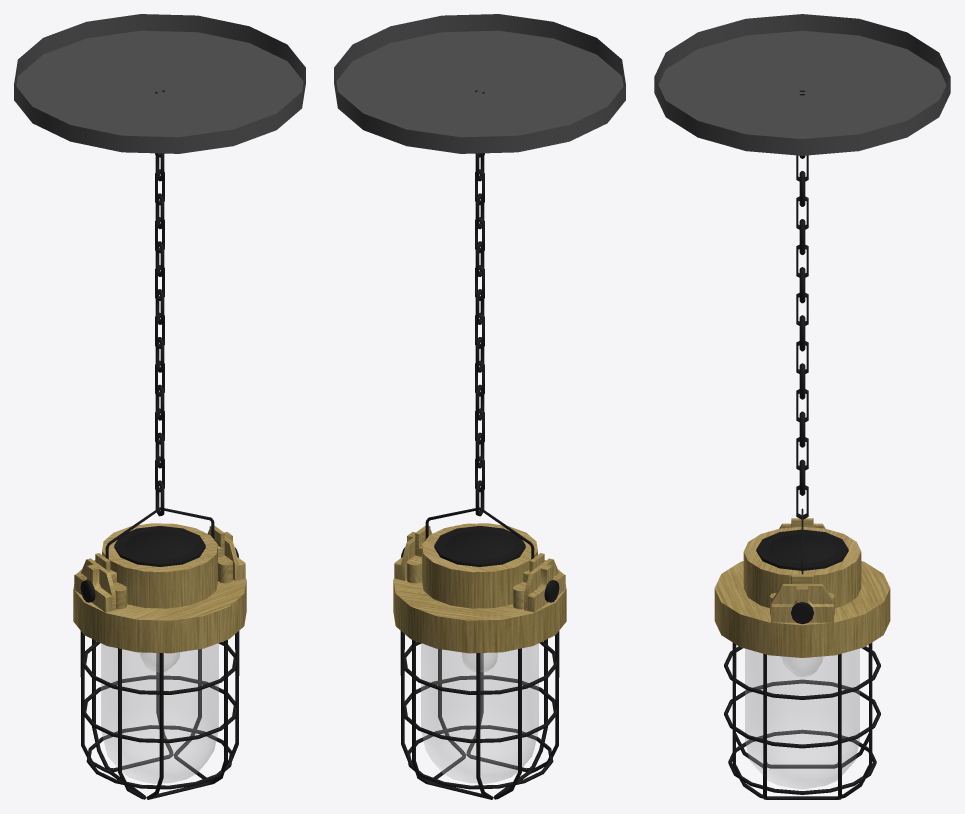
Rendered from Light.fbx.
3 renders of one model, left to right at view 1: azimuth 30°, elevation 25°; view 2: azimuth 150°, elevation 25°; view 3: azimuth 270°, elevation 25°, orthographic.
Parts seen in each view (by area): view 1: Light_high; view 2: Light_high; view 3: Light_high.
Part boxes in pixels (x1,y1,x2,y2): Light_high: [14, 14, 305, 799]; Light_high: [334, 14, 625, 799]; Light_high: [654, 14, 950, 799].
Bounding box in the file's own units: 36.24 × 95.55 × 36.24.
3 materials, 3 textured.
